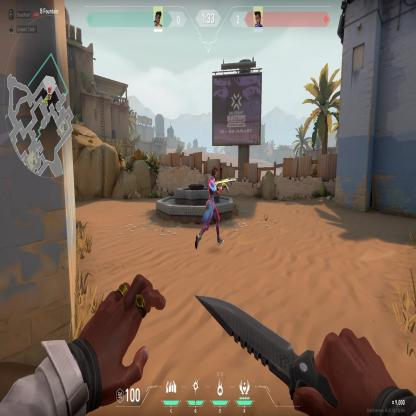enemy: (194, 164, 224, 255)
